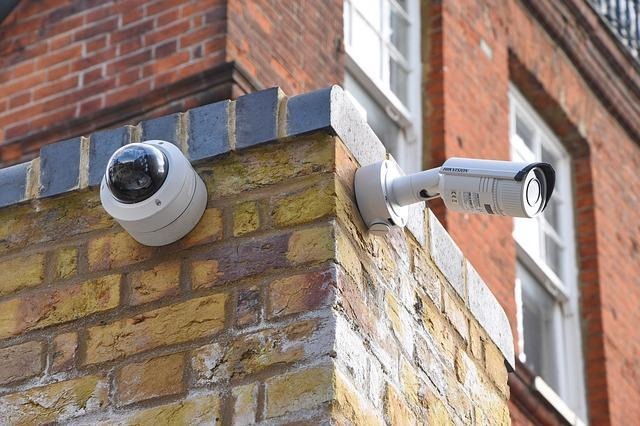CCTV: (100, 140, 207, 247)
